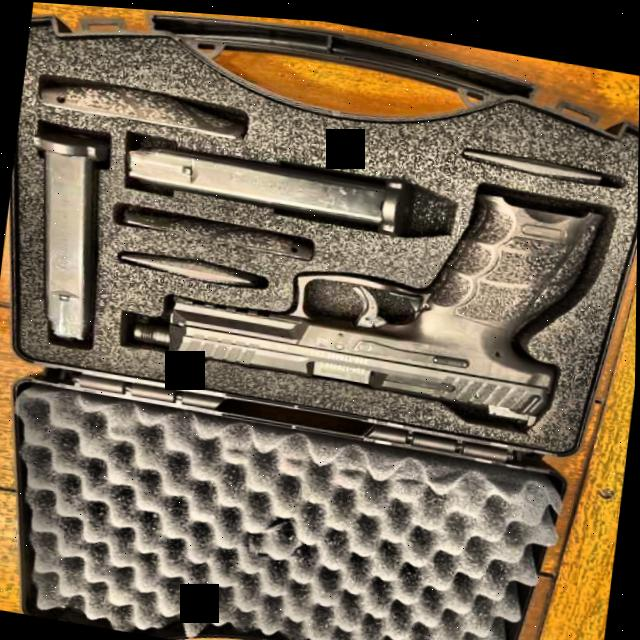HKVP9: (169, 141, 597, 443)
